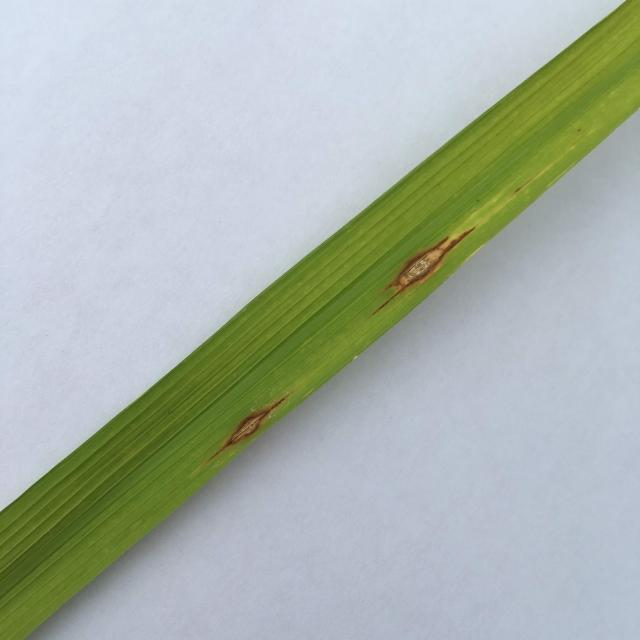Blast: (405, 237, 453, 289), (231, 406, 262, 442)
